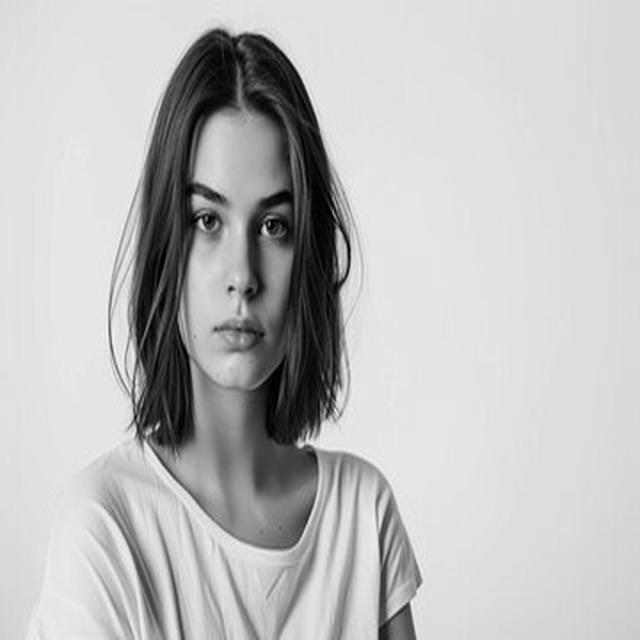Neutral: (177, 116, 301, 390)
